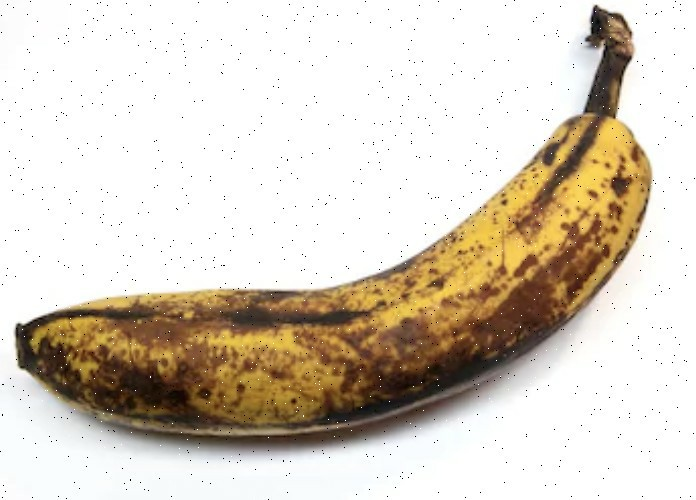rotten_banana: (19, 51, 651, 438)
